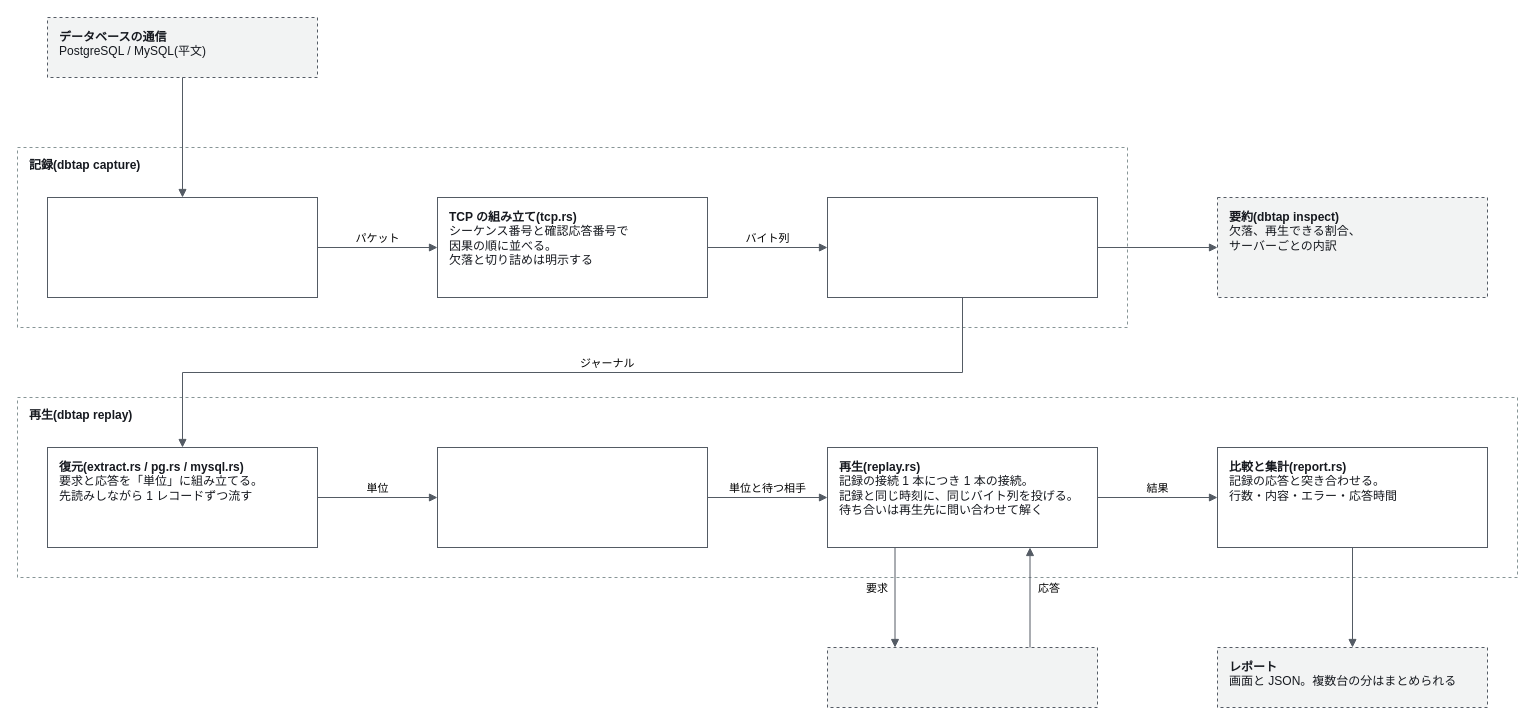
This 1535x725 diagram has some shape labels left out. Here are the shapes that lost their labels. From the top down, the centre of each, then its label:
At pixel 182 247: "取り込み口 ライブ: AF_PACKET とカーネル内フィルタ ファイル: pcap / pcapng ミラー: VXLAN の包みを外す".
At pixel 962 247: "ジャーナル(.dbtap) 接続ごと・向きごとのバイト列と時刻。 zstd で圧縮した追記型".
At pixel 572 497: "計画(plan.rs / deps.rs) 文が触るテーブルと値から、 投げる前に終わりを待つ相手を決める".
At pixel 962 677: "再生先のデータベース 記録を始めた時点のデータを持つ複製".
